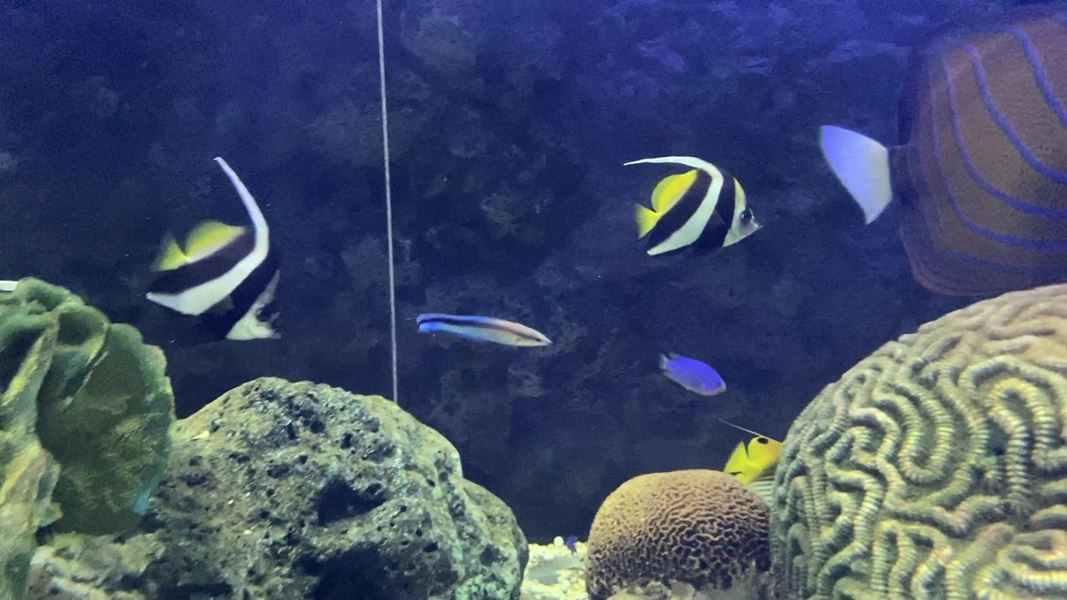Bluesteak cleaner wrasse: (411, 304, 551, 362)
